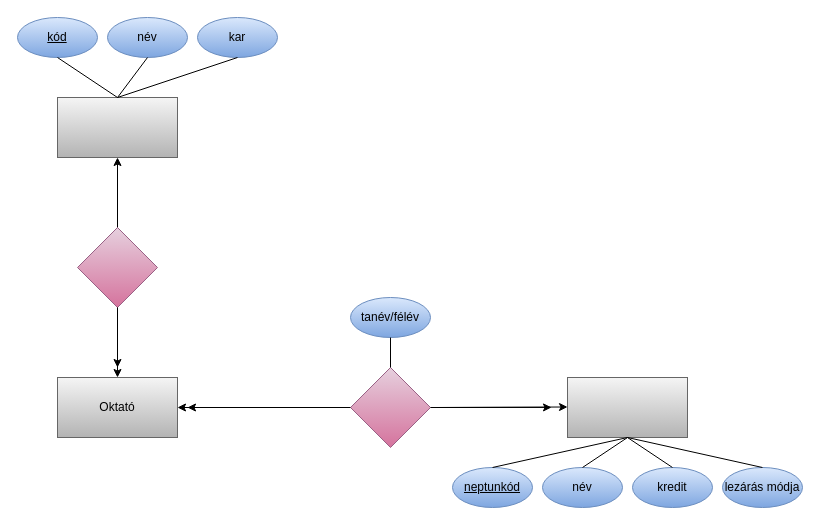
This 820x525 diagram has some shape labels left out. Each missing label, with the centre of its shape:
O-TT: pixel 390 407
Tanszék: pixel 117 127
Tantárgy: pixel 627 407
TSZ-O: pixel 117 267
